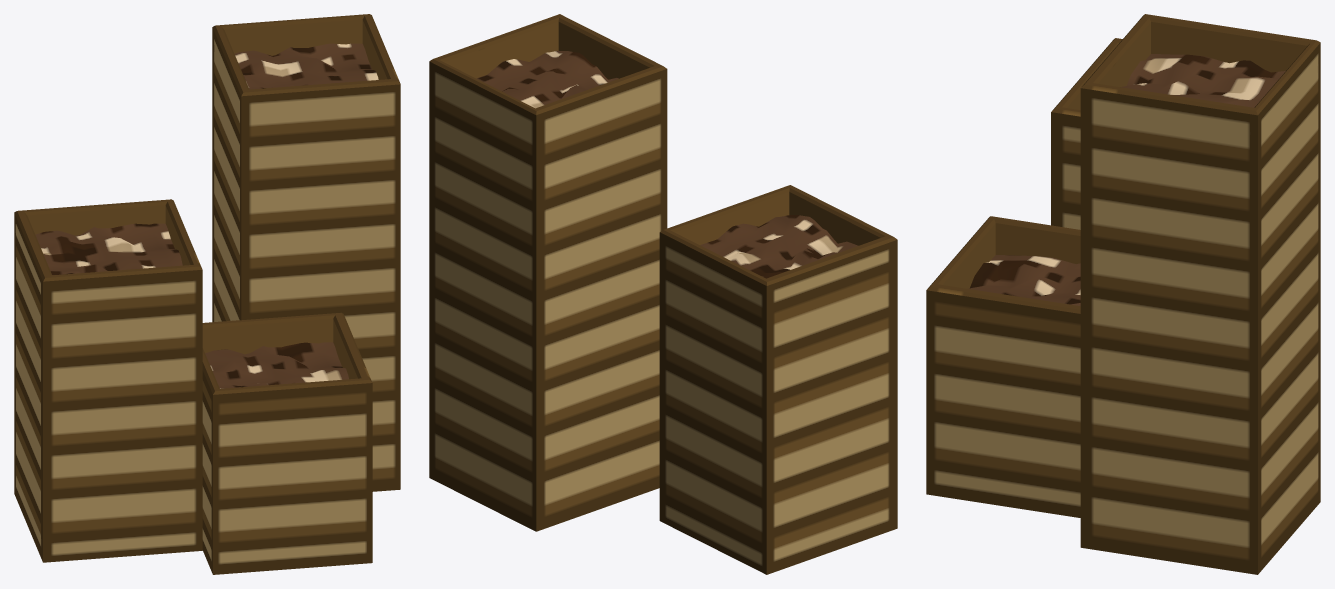
Rendered from Pot2.fbx.
3 views of the same model, side by side, from view 1: azimuth 30°, elevation 25°; view 2: azimuth 150°, elevation 25°; view 3: azimuth 270°, elevation 25° (orthographic). The views are drawn at different scales.
Visible parts, largest first — view 1: Rectangle planters; view 2: Rectangle planters; view 3: Rectangle planters.
Boxes of the visible parts, bbox=[...] form: Rectangle planters: bbox=[14, 14, 400, 574]; Rectangle planters: bbox=[429, 14, 897, 574]; Rectangle planters: bbox=[926, 14, 1320, 574].
Bounding box in the file's own units: 46.94 × 46.62 × 36.04.
Materials: 2 (2 with a texture image).
